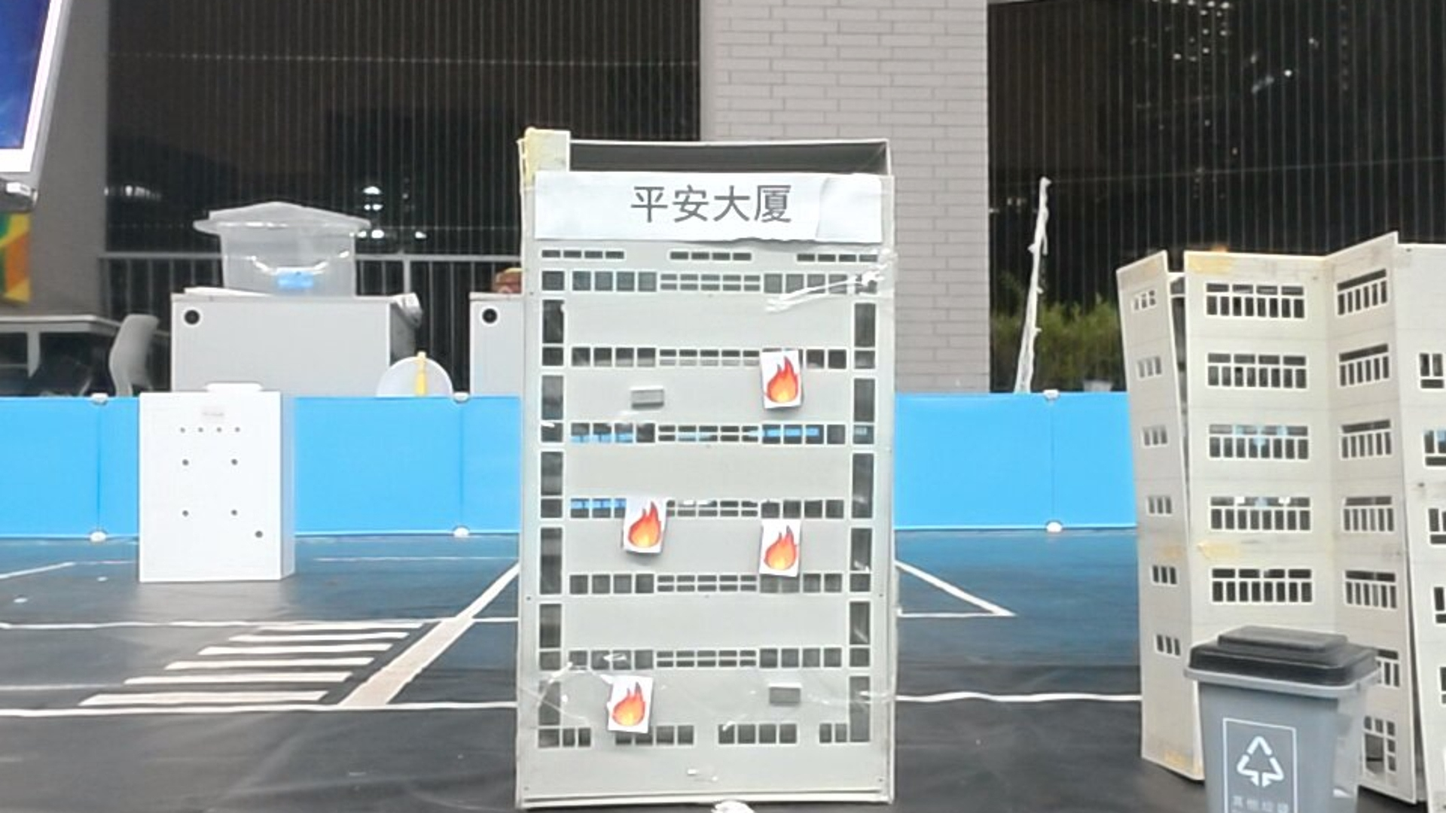fire: (607, 675, 655, 733), (623, 496, 668, 554), (759, 519, 803, 576), (762, 352, 804, 408)
